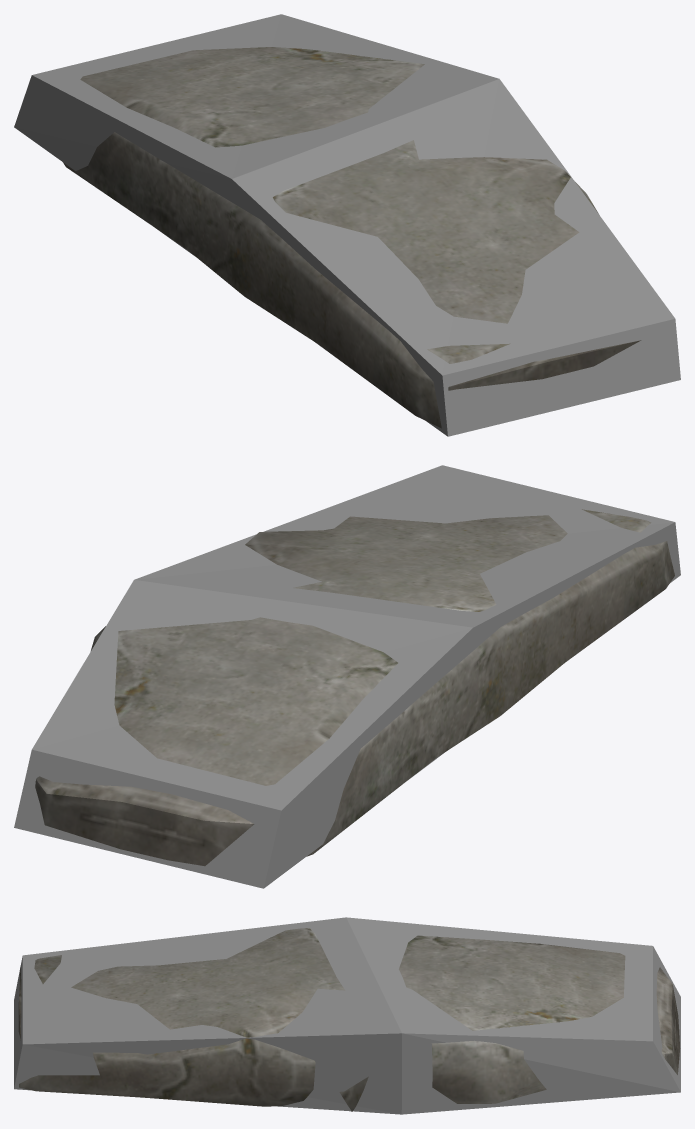
The model's file is Scene_Rock_TianShan_SuiShiTi_2.FBX.
The picture shows the model from 3 angles, top to bottom: view 1: azimuth 30°, elevation 25°; view 2: azimuth 150°, elevation 25°; view 3: azimuth 270°, elevation 25°; orthographic projection. The views are drawn at different scales.
Parts seen in each view (by area): view 1: Scene_Rock_TianShan_SuiShiTi_2_Xzm, Scene_Rock_TianShan_SuiShiTi_2; view 2: Scene_Rock_TianShan_SuiShiTi_2, Scene_Rock_TianShan_SuiShiTi_2_Xzm; view 3: Scene_Rock_TianShan_SuiShiTi_2_Xzm, Scene_Rock_TianShan_SuiShiTi_2.
Boxes of the visible parts, x1,y1,x2,y2 form: Scene_Rock_TianShan_SuiShiTi_2_Xzm: (14,14,680,436); Scene_Rock_TianShan_SuiShiTi_2: (63,47,641,428); Scene_Rock_TianShan_SuiShiTi_2: (35,509,674,866); Scene_Rock_TianShan_SuiShiTi_2_Xzm: (14,465,680,888); Scene_Rock_TianShan_SuiShiTi_2_Xzm: (14,917,680,1114); Scene_Rock_TianShan_SuiShiTi_2: (18,928,680,1111).
Size of the model in its own units: 85.17 by 27.96 by 202.
